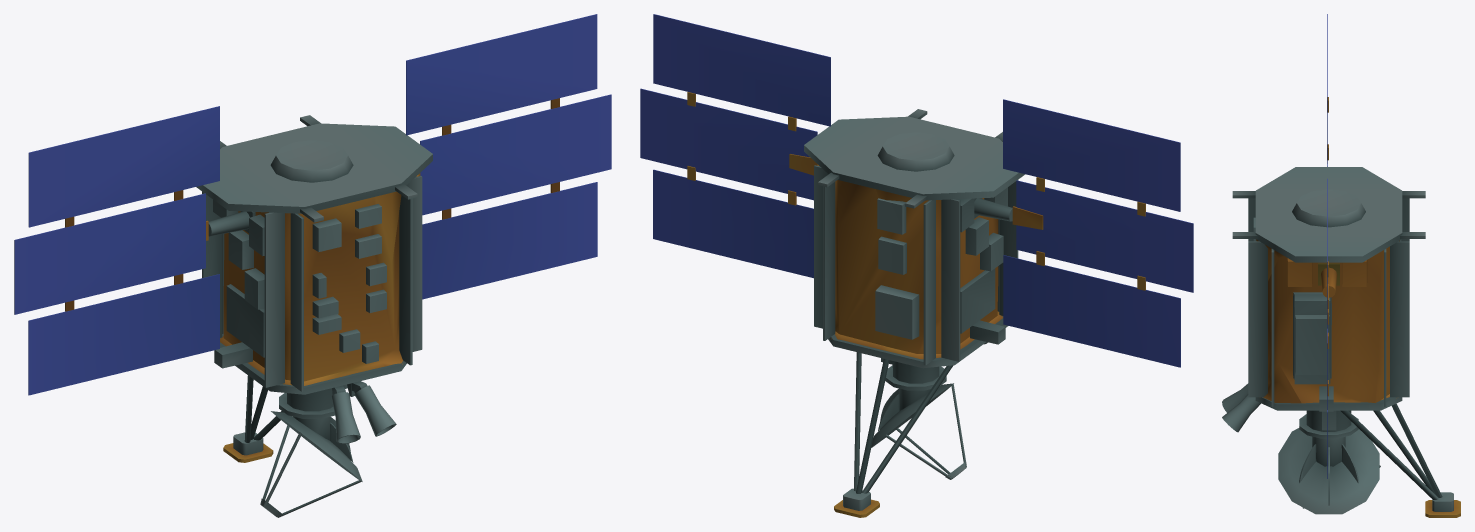
3 views of the same model, side by side, from view 1: azimuth 30°, elevation 25°; view 2: azimuth 150°, elevation 25°; view 3: azimuth 270°, elevation 25° (orthographic). The views are drawn at different scales.
Visible parts, largest first — view 1: refl.100; view 2: refl.100; view 3: refl.100.
Part boxes in pixels (x1,y1,x2,y2): refl.100: [14, 14, 611, 517]; refl.100: [640, 14, 1193, 517]; refl.100: [1222, 14, 1460, 517].
Size of the model in its own units: 0.5 by 0.3394 by 0.1939.
